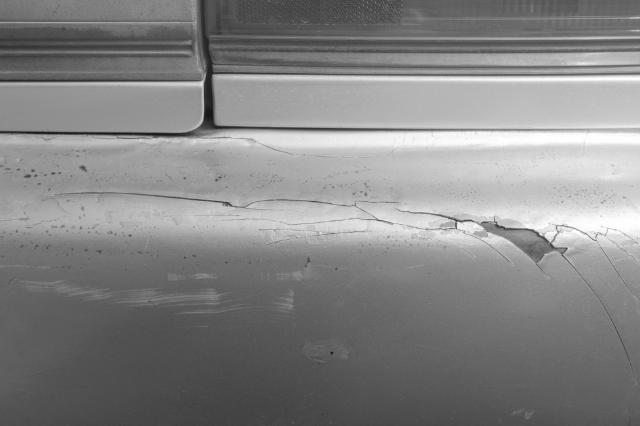Bumper: (0, 131, 640, 419)
